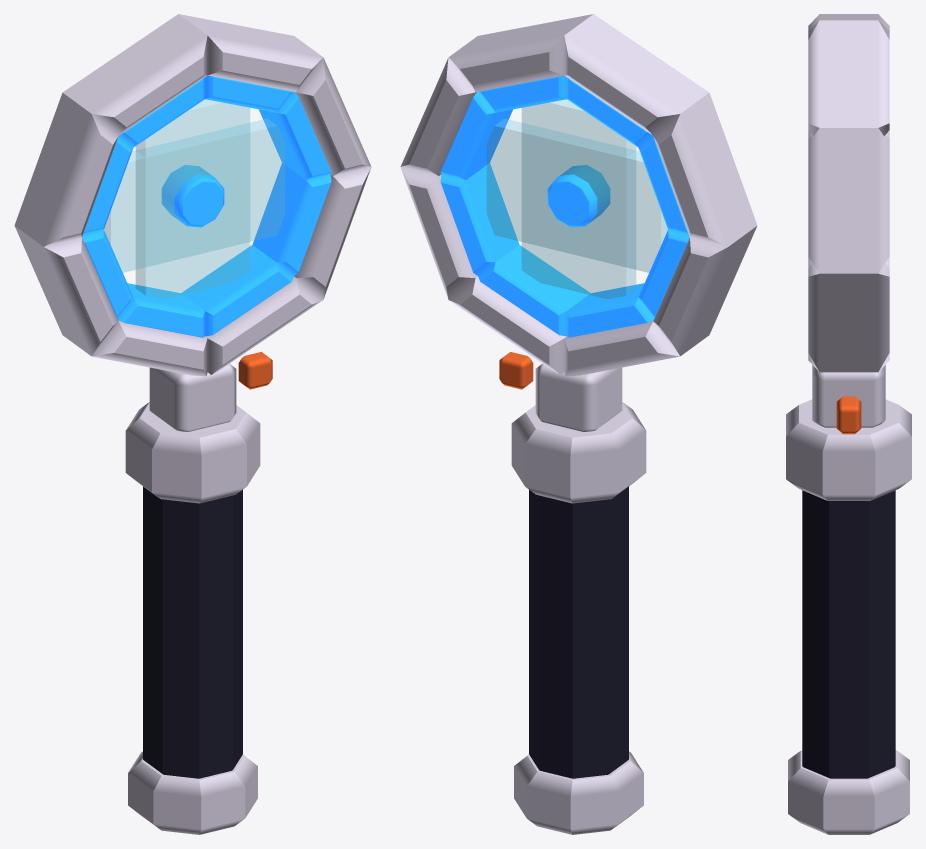
Rendered from scanner_ring.glb.
3 views of the same model, side by side, from view 1: azimuth 30°, elevation 25°; view 2: azimuth 150°, elevation 25°; view 3: azimuth 270°, elevation 25° (orthographic).
Parts seen in each view (by area): view 1: item.scanner_ring.body; view 2: item.scanner_ring.body; view 3: item.scanner_ring.body.
Part boxes in pixels (box(x1,y1,x2,y2)): item.scanner_ring.body: box(14, 14, 371, 834); item.scanner_ring.body: box(400, 14, 757, 834); item.scanner_ring.body: box(786, 14, 911, 834).
Bounding box in the file's own units: 0.2937 × 0.675 × 0.0969.
